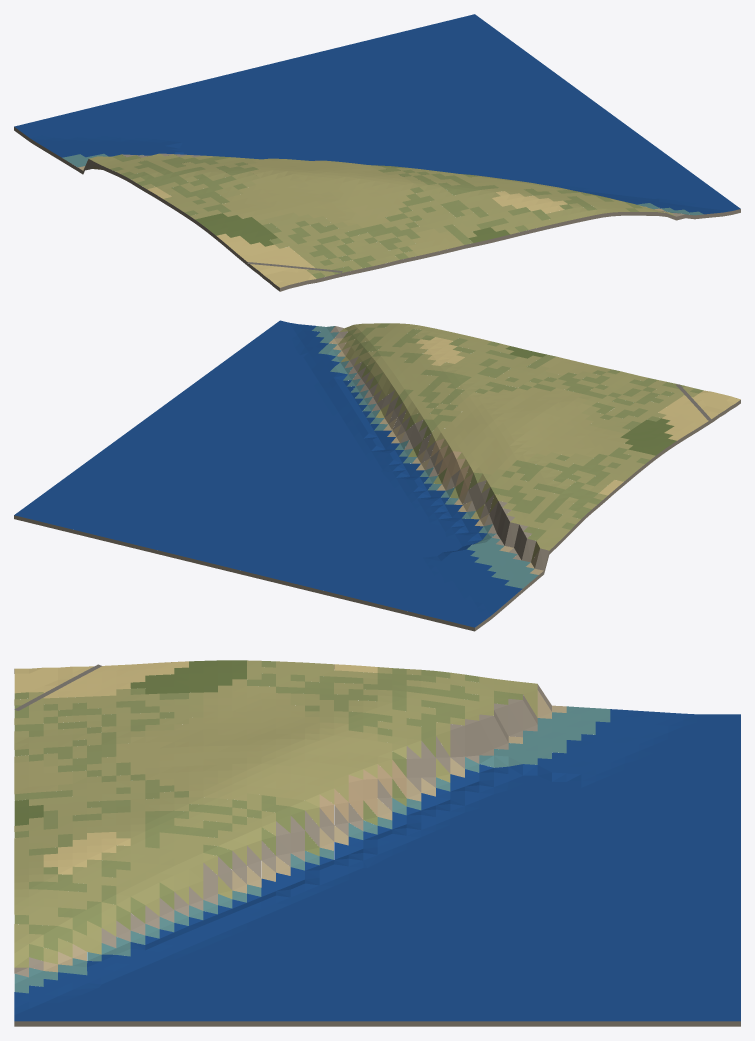
File: parca_+14_-2-uzak.glb
3 renders of one model, top to bottom at view 1: azimuth 30°, elevation 25°; view 2: azimuth 150°, elevation 25°; view 3: azimuth 270°, elevation 25°, orthographic. The views are drawn at different scales.
Parts seen in each view (by area): view 1: parca_+14_-2_arazi_uzak; view 2: parca_+14_-2_arazi_uzak; view 3: parca_+14_-2_arazi_uzak.
Boxes of the visible parts, left/top/right/bottom form: parca_+14_-2_arazi_uzak: left=14, top=14, right=740, bottom=291; parca_+14_-2_arazi_uzak: left=14, top=320, right=740, bottom=631; parca_+14_-2_arazi_uzak: left=14, top=660, right=740, bottom=1026.
Bounding box in the file's own units: 1004 × 91.99 × 1001.
